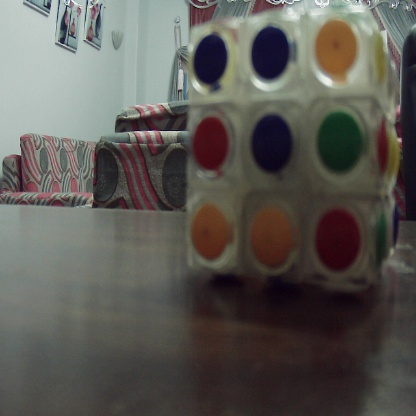Rubix Cube: (184, 7, 400, 290)
